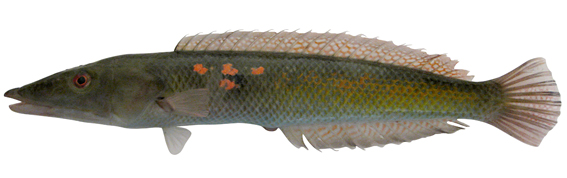fish: (4, 29, 561, 155)
